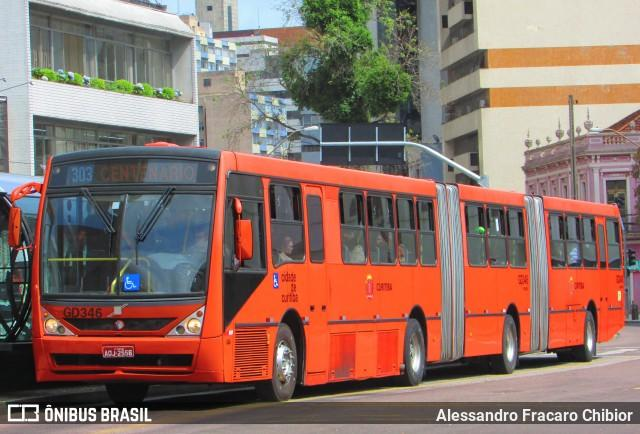CENTENARIO: (98, 161, 198, 186)
